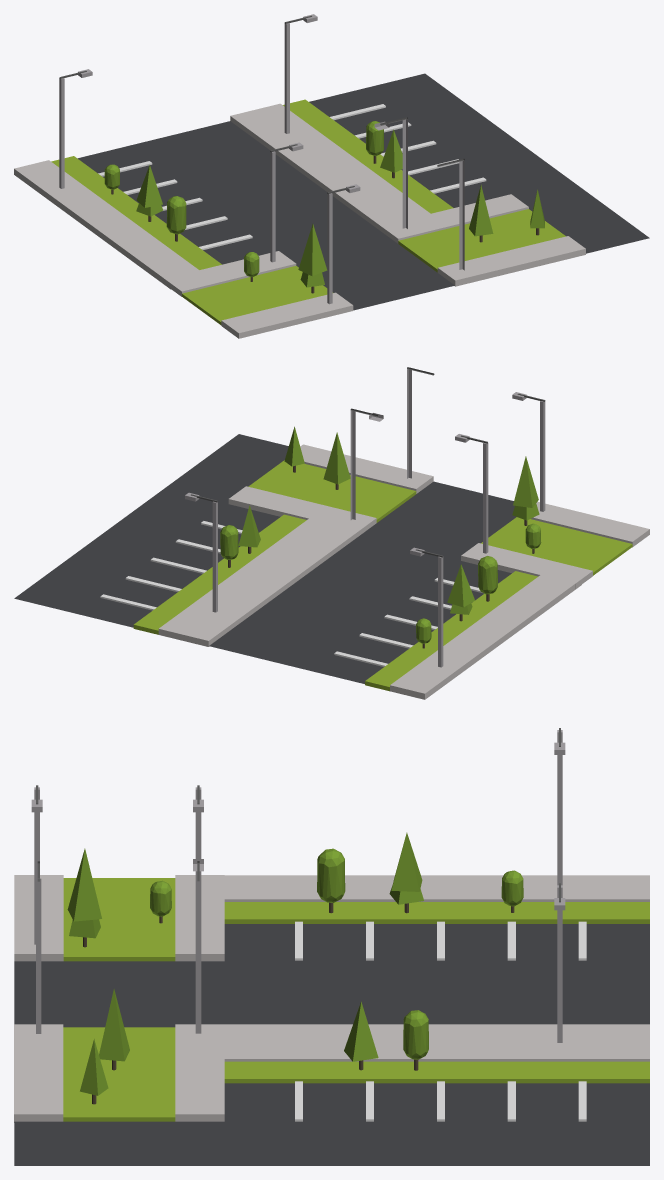
The model's file is parkingLot.glb.
3 views of the same model, one above another, from view 1: azimuth 30°, elevation 25°; view 2: azimuth 150°, elevation 25°; view 3: azimuth 270°, elevation 25° (orthographic). The views are drawn at different scales.
Visible parts, largest first — view 1: Plane_Plane.008; view 2: Plane_Plane.008; view 3: Plane_Plane.008.
Boxes of the visible parts, box(x1,y1,x2,y2) form: Plane_Plane.008: box(14, 14, 649, 338); Plane_Plane.008: box(14, 367, 649, 699); Plane_Plane.008: box(14, 728, 649, 1165).
Bounding box in the file's own units: 4.1 × 1.12 × 3.89.
